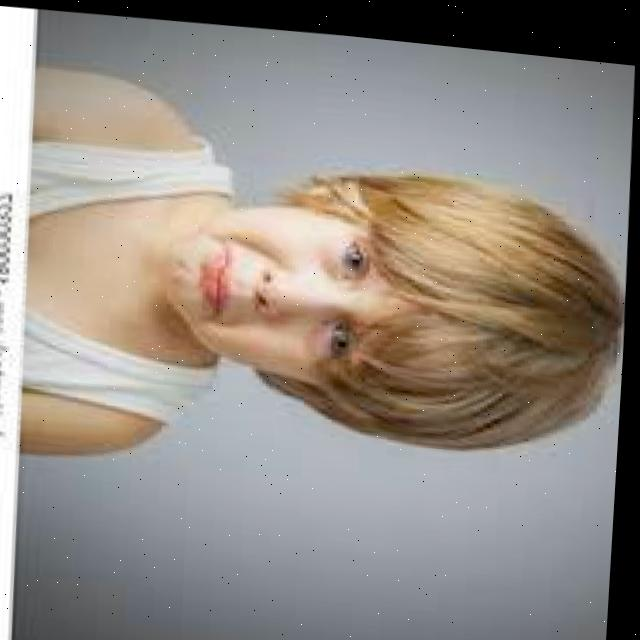surprised: (164, 171, 493, 400)
